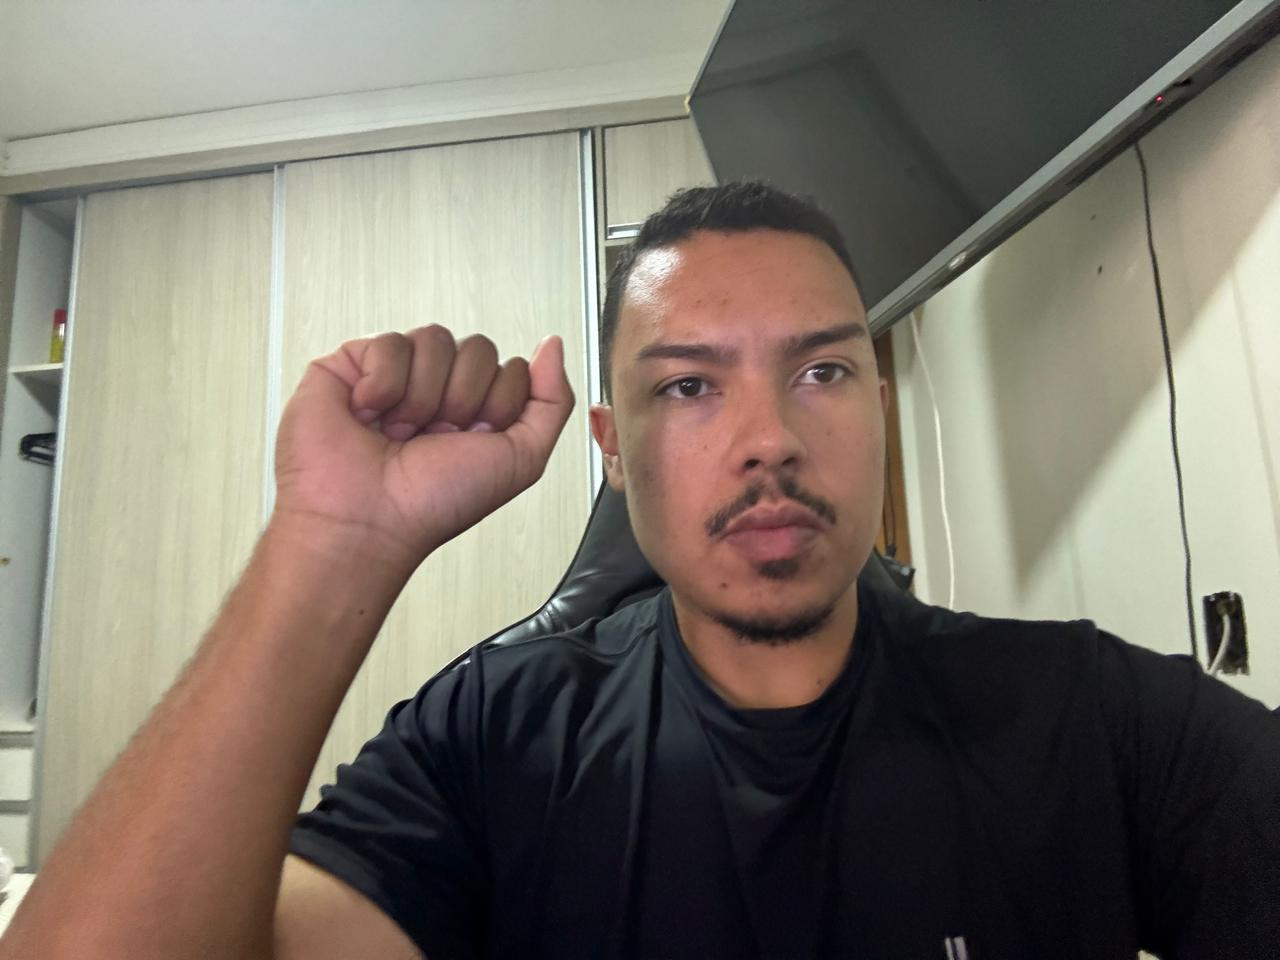a: (271, 324, 575, 576)
